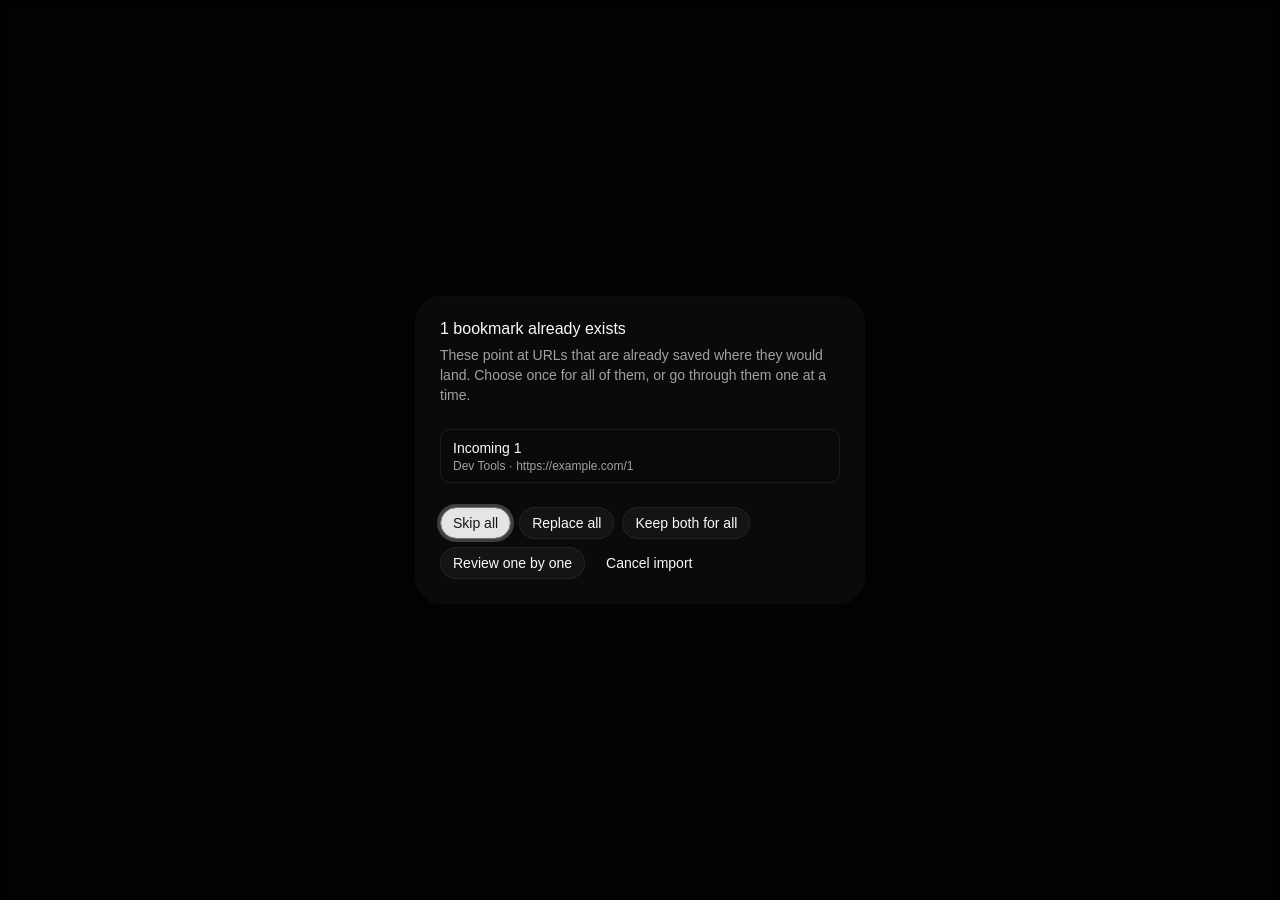
Test: ImportConflictDialog review › shows both sides of the conflict and where it is
This screenshot has width=1280, height=900.
Click the button "Review one by one".
click(513, 563)  # box [440,547,585,579]
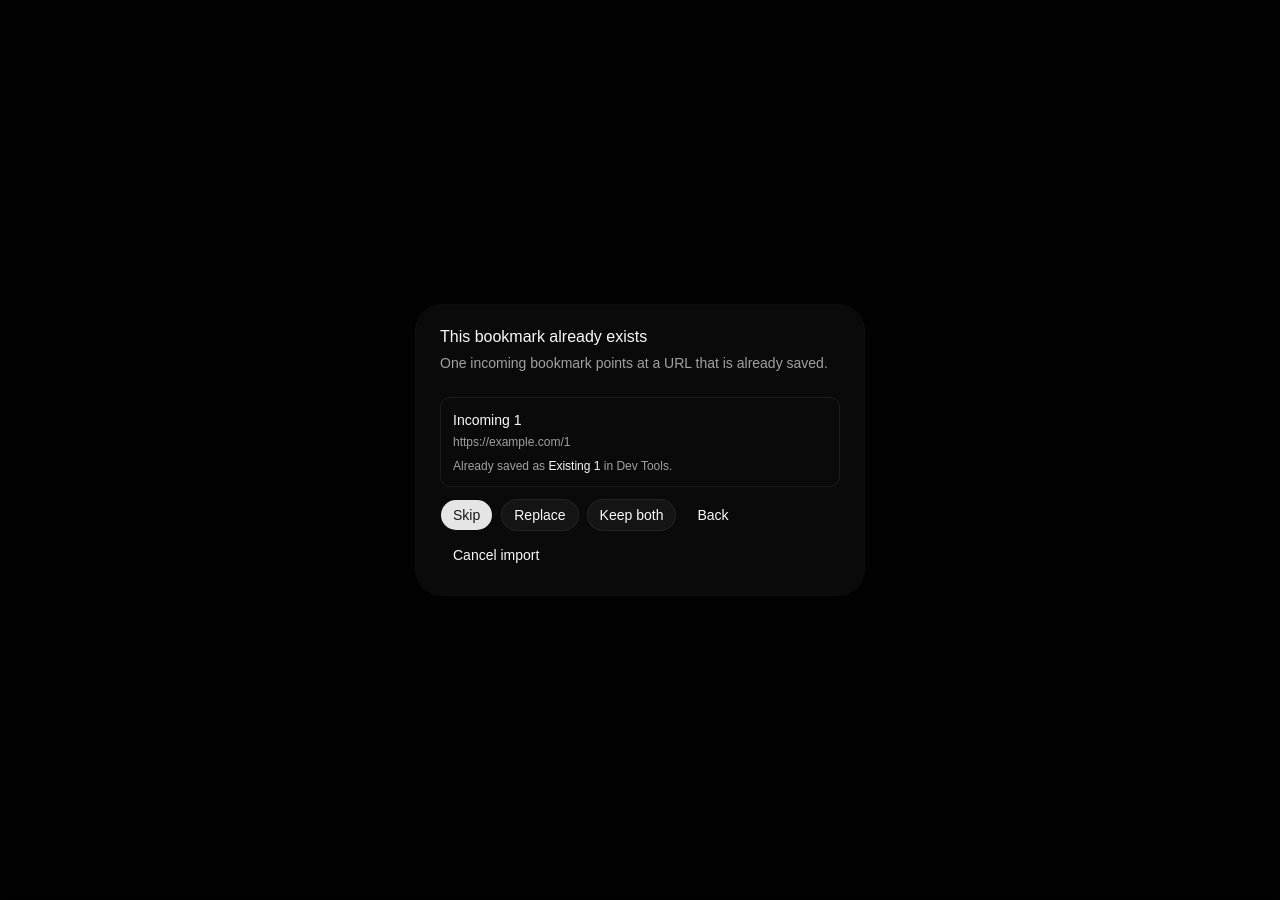
Expected: the text "Incoming 1" is shown, [453,412,522,428]
Expected: the text "Existing 1" is shown, [548,459,600,473]
Expected: the text "Already saved as Existing 1 in Dev Tools." is shown, [453,459,672,473]
